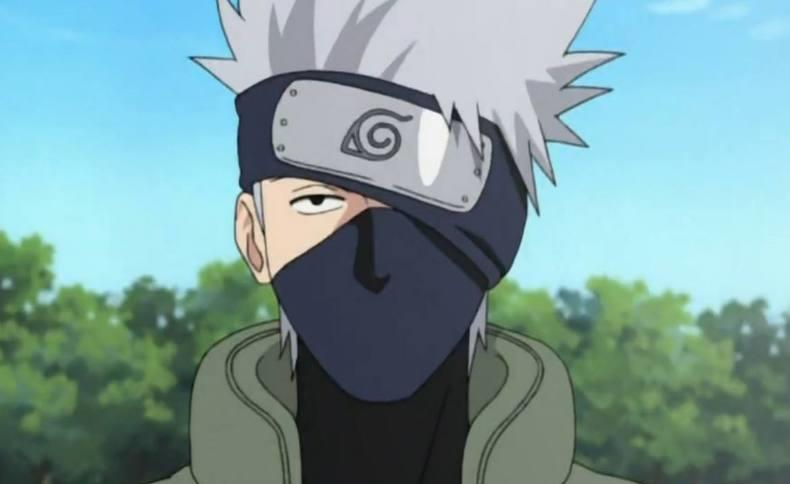kakashi: (229, 68, 536, 412)
